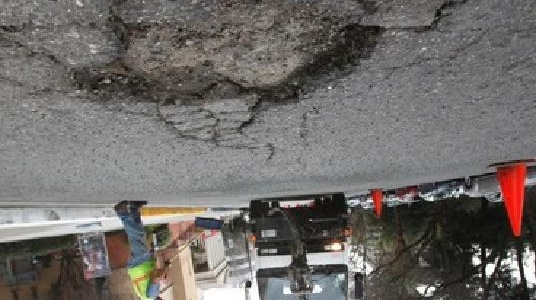pothole: (65, 0, 389, 112)
